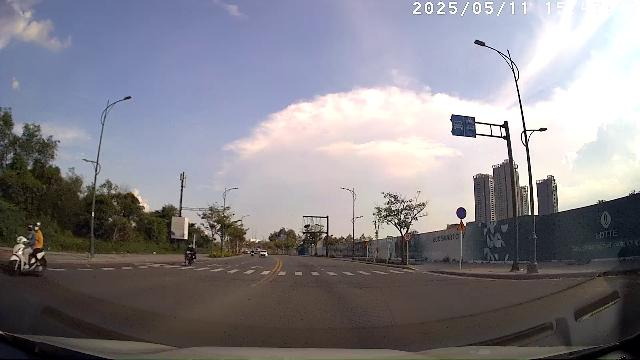127-toc-do-toi-da-50: (404, 232, 411, 241)
131a-cam-do-xe: (456, 207, 467, 219)
